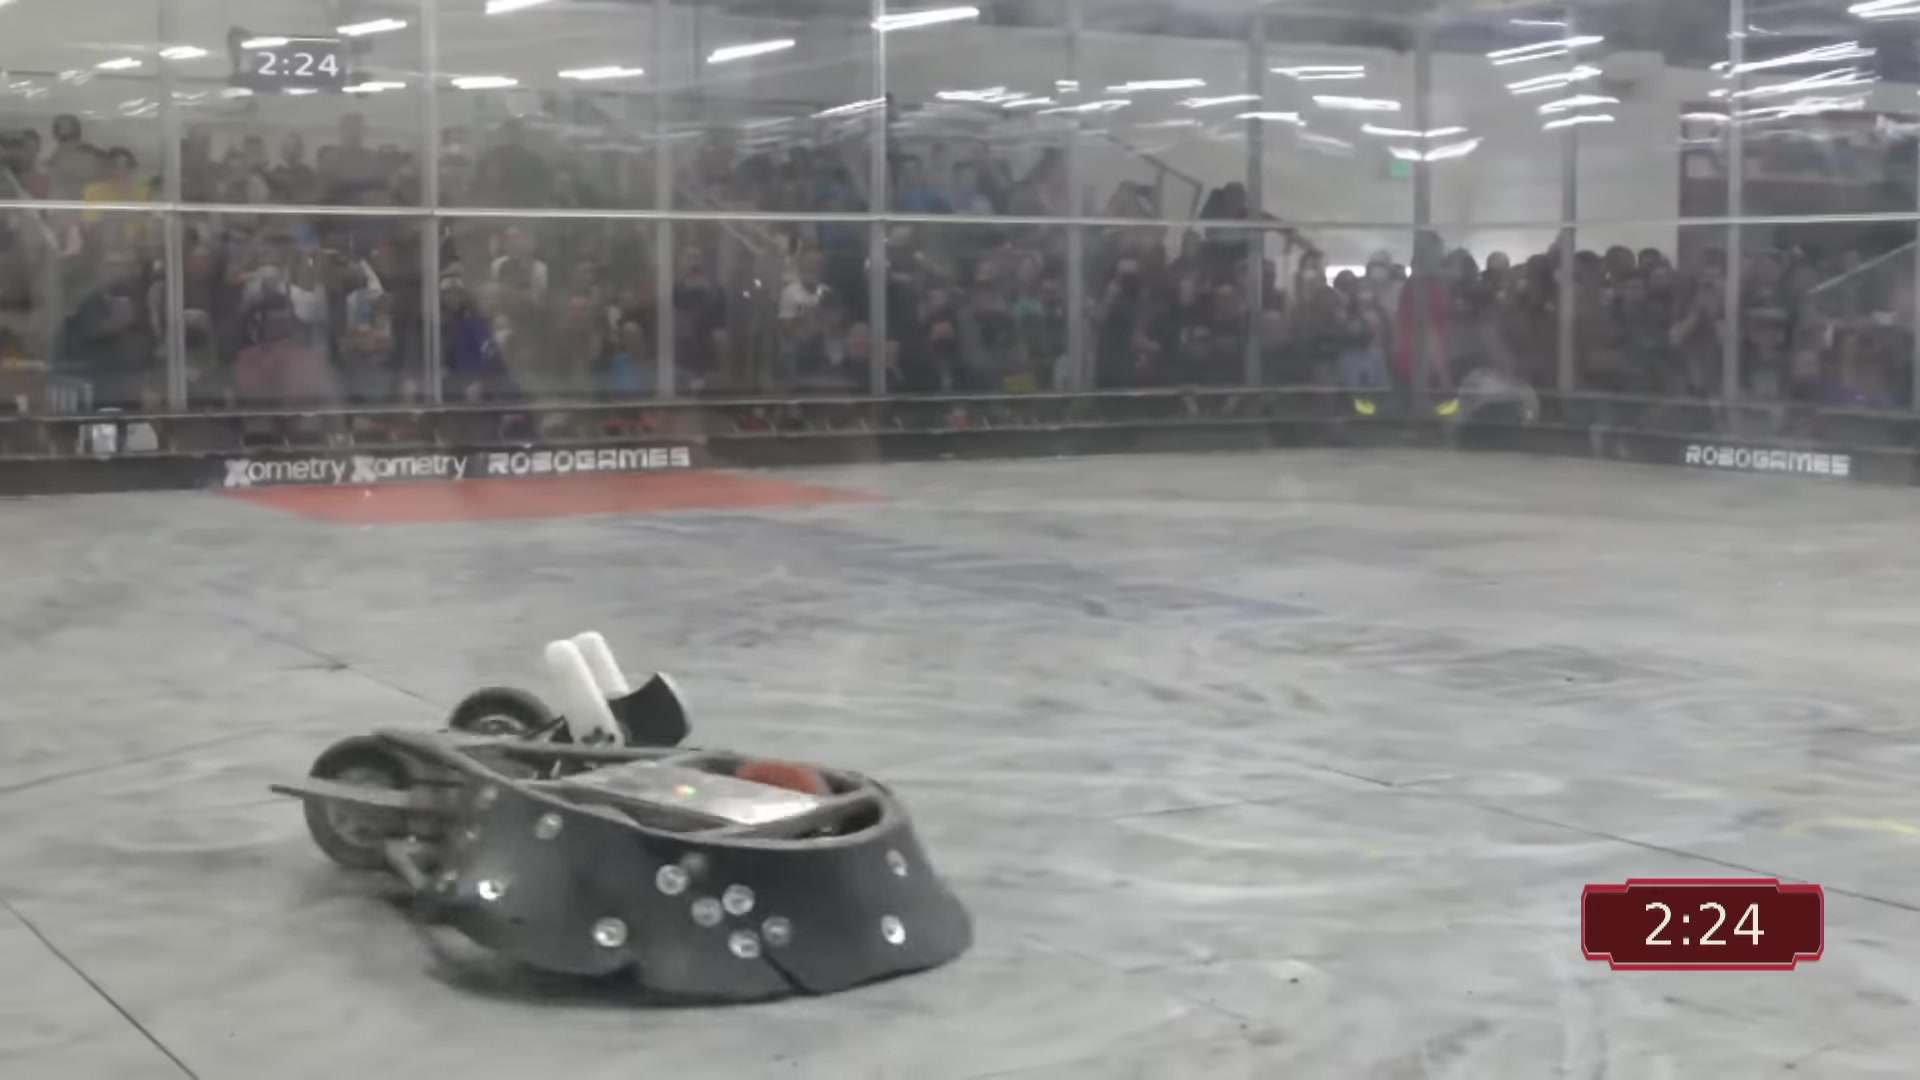combatbot: (373, 721, 986, 1011), (299, 628, 691, 890)
